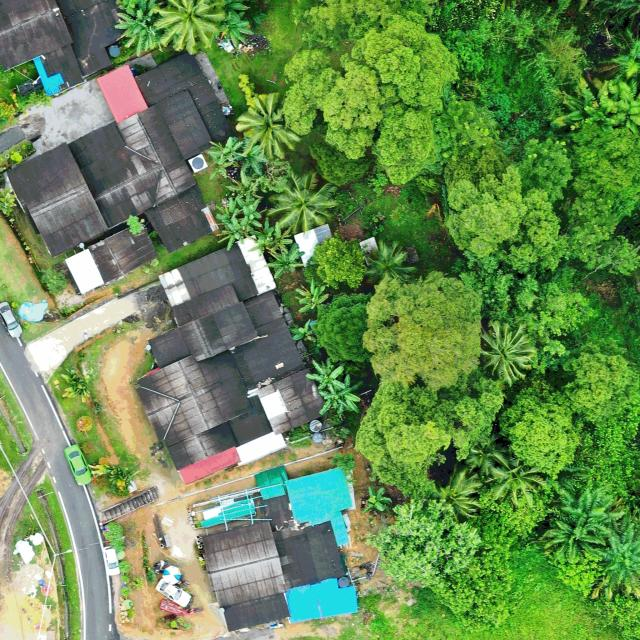0: (265, 167, 339, 235), (234, 92, 302, 160), (552, 476, 627, 536), (486, 448, 551, 509), (478, 320, 536, 384), (593, 517, 640, 593), (158, 0, 224, 53), (541, 515, 610, 564), (427, 466, 483, 526), (365, 236, 418, 289)
banana_tree2: (113, 0, 162, 54), (211, 0, 256, 49), (248, 213, 294, 258), (318, 373, 360, 416), (293, 277, 330, 317), (305, 358, 346, 394), (266, 246, 306, 278), (360, 484, 392, 516), (288, 318, 316, 344)
tree: (282, 18, 460, 189), (354, 377, 507, 501), (362, 268, 482, 395), (374, 498, 483, 589), (497, 381, 585, 482), (312, 291, 368, 362), (302, 232, 368, 292)
